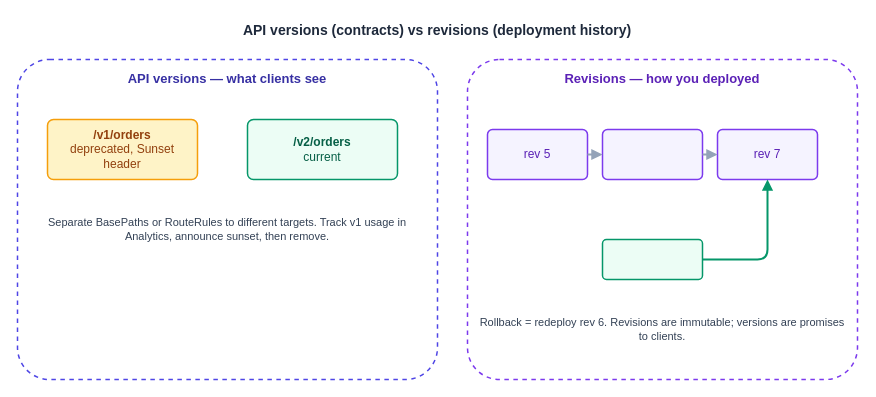
Some shapes in this 876 by 397 pixel diagram are drawn without their labels. Each missing label, with the centre of its shape:
"prod: rev 7" goes at point (652, 259).
"rev 6" goes at point (652, 154).
